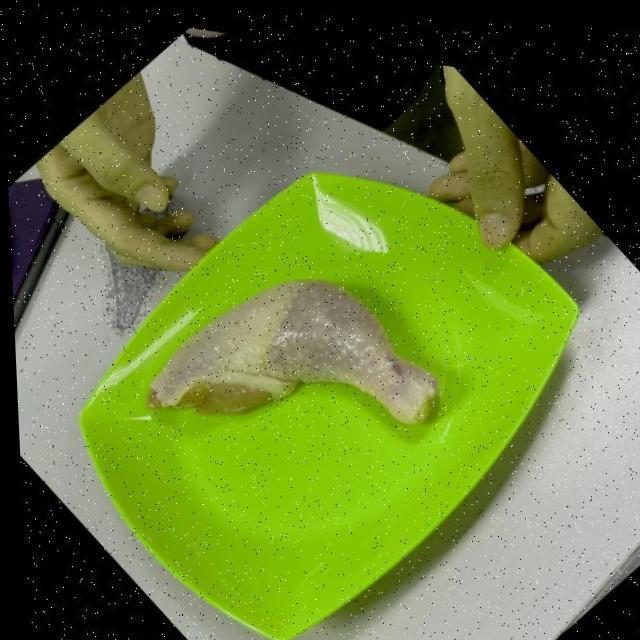quater: (170, 279, 431, 428)
